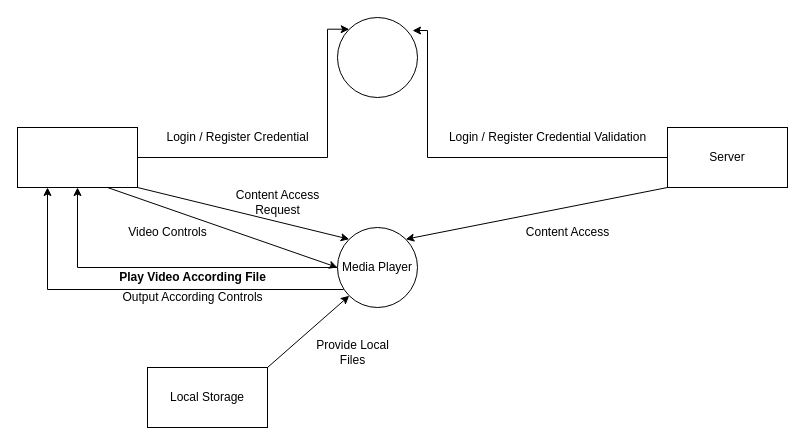
Some shapes in this 805 by 445 pixel diagram are drawn without their labels. Here are the shapes that lost their labels. From the top down, the box of each, then its label:
(336, 16, 418, 98): User Login
(16, 126, 138, 188): User
